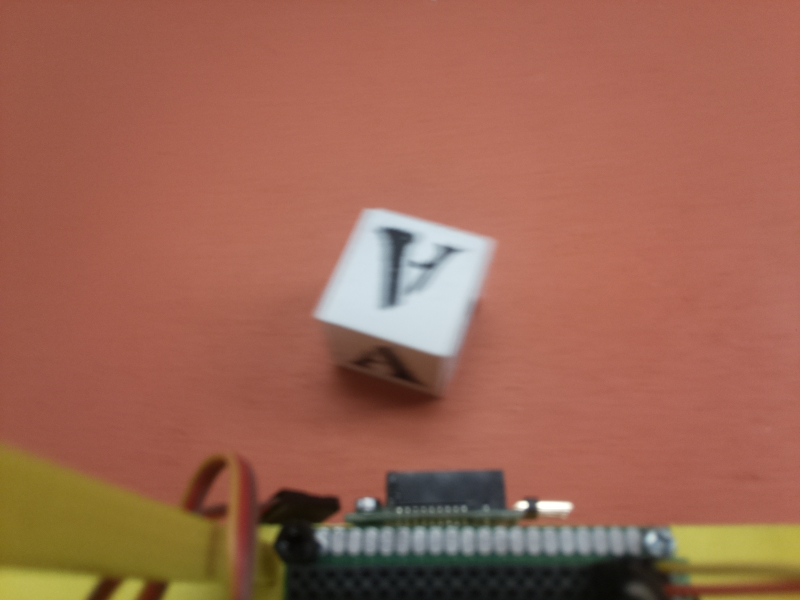blockA: (302, 205, 497, 400)
